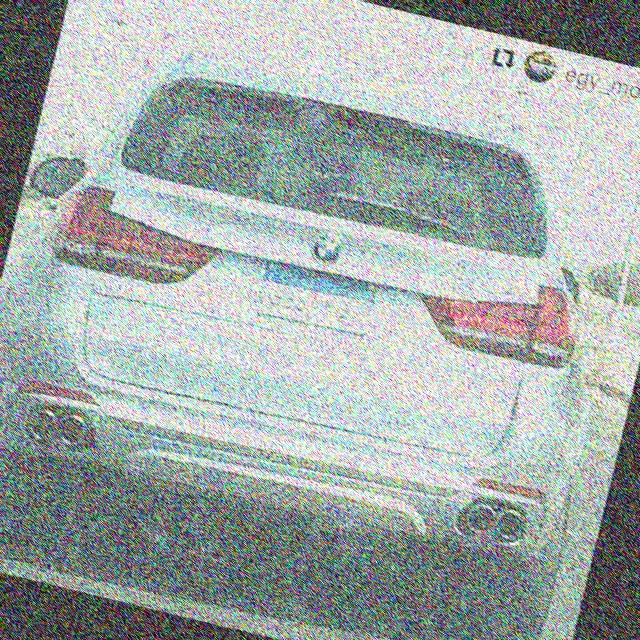License Plate: (249, 253, 384, 344)
